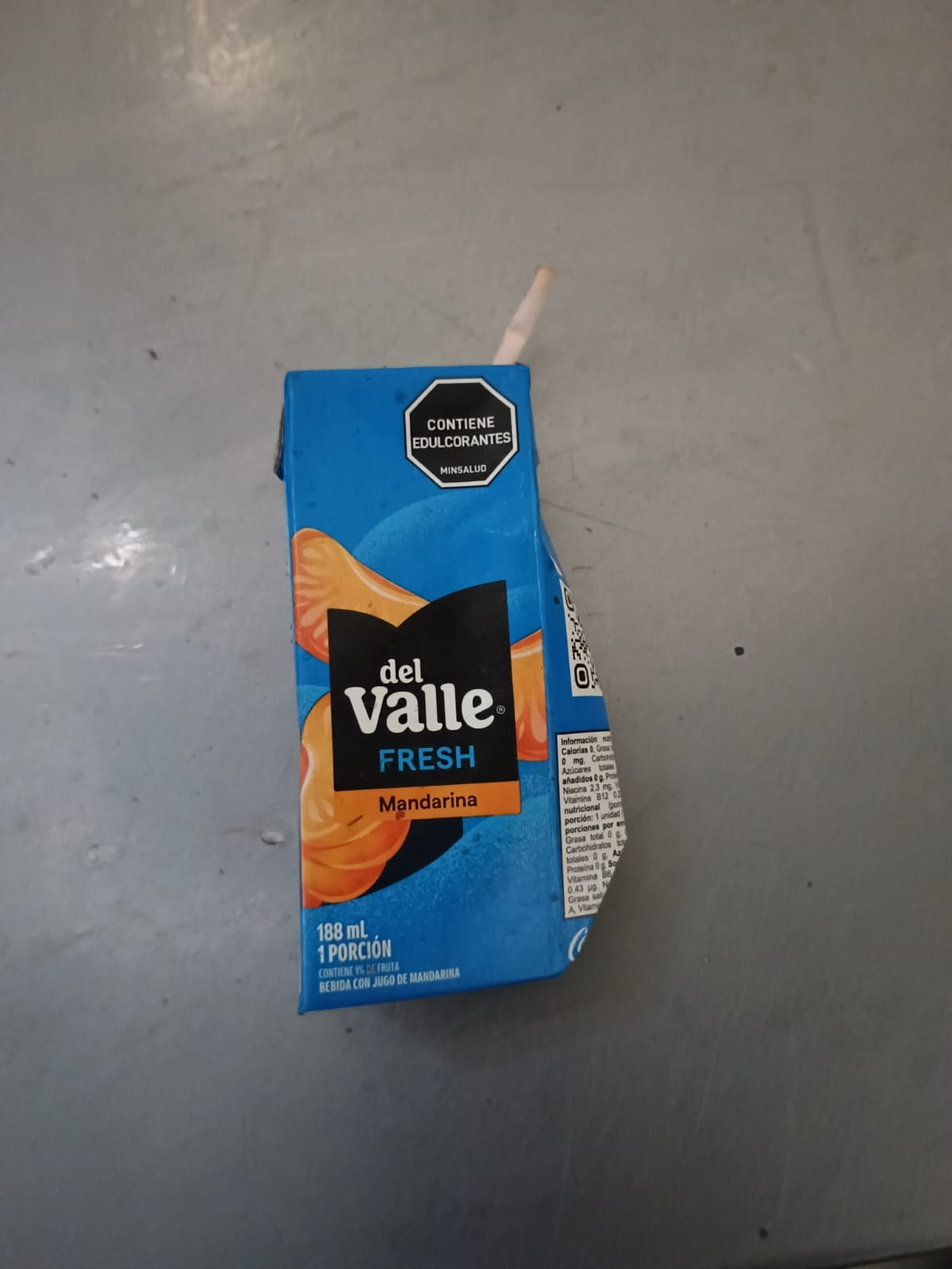Carton: (285, 368, 623, 1018)
